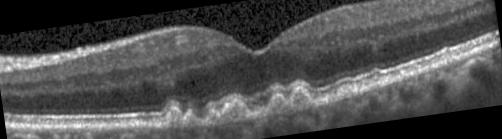retinal_drusen: (336, 74, 384, 100), (223, 101, 255, 123), (293, 88, 315, 112), (268, 95, 292, 114), (202, 109, 221, 126), (169, 108, 182, 128), (184, 113, 201, 128), (442, 51, 459, 64), (256, 106, 268, 119)
